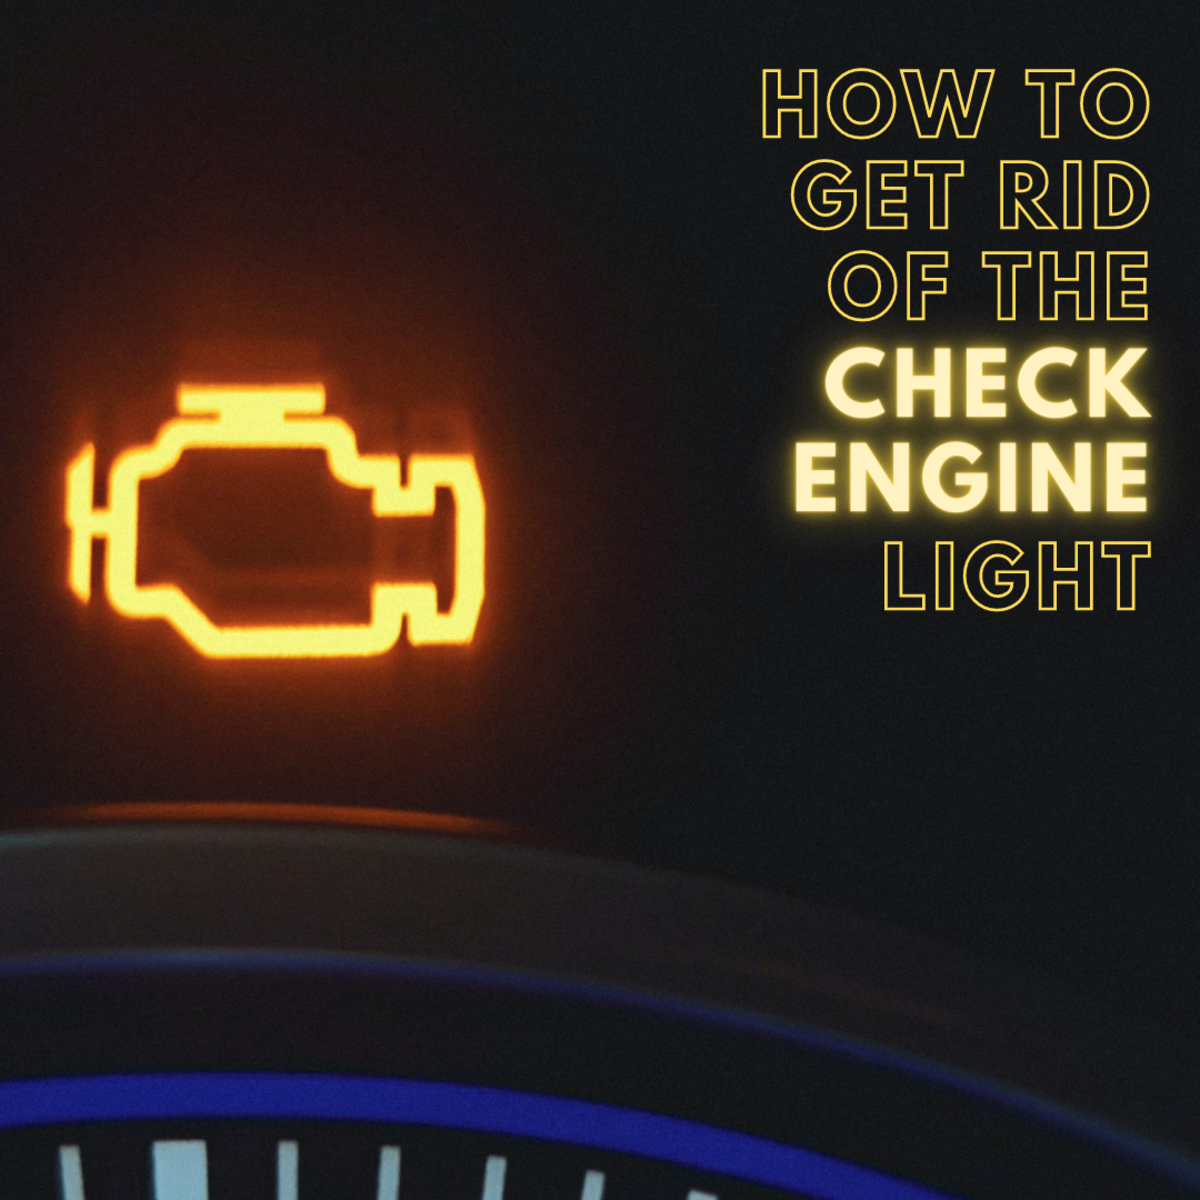Engine_emissions: (49, 356, 495, 686)
